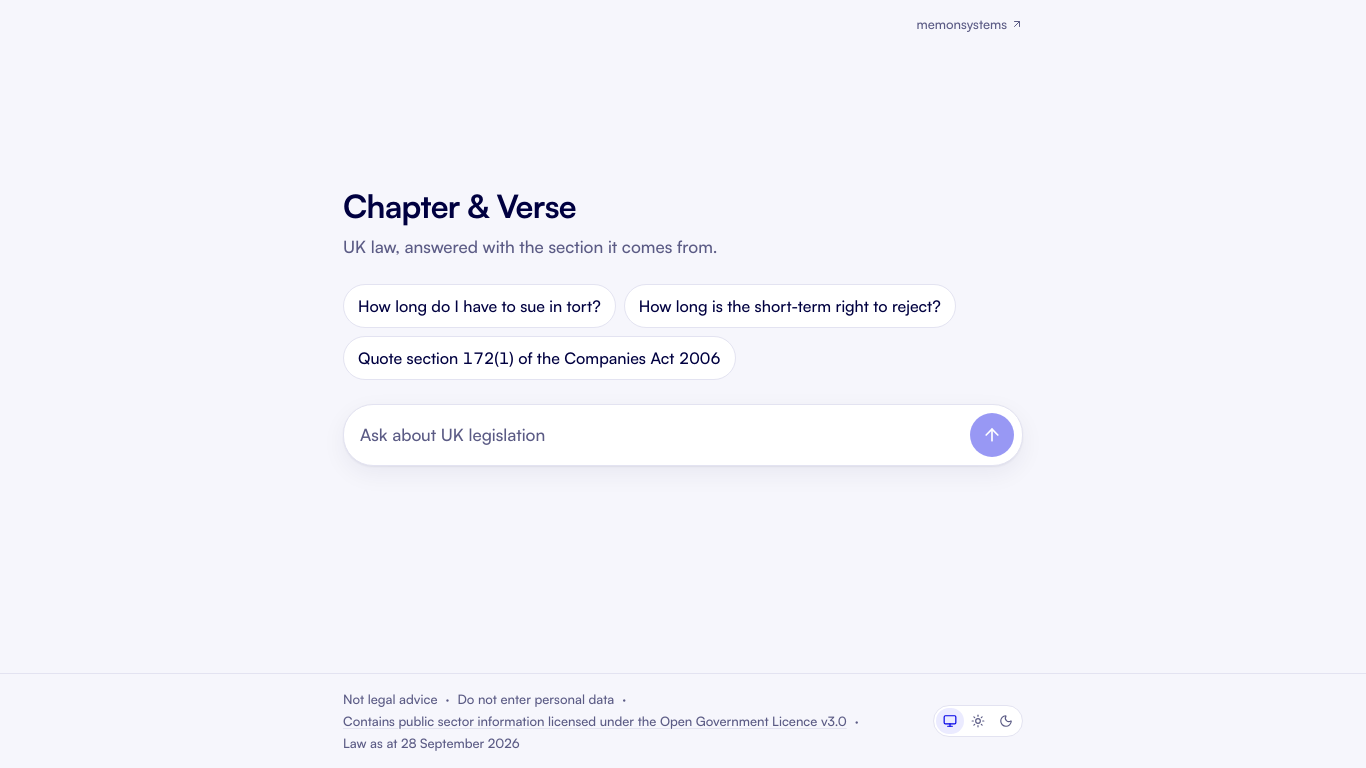
Test: Choice, Change, Retry, and Conversation State (S1-S7) › Retry on an error card replaces the turn in place without duplicating headings and has no action row
Type "How long do I have to sue in tort?" into the text box with placeholder "Ask about UK legislation" at (661, 435), box 360,413 -> 962,457
Then press Enter
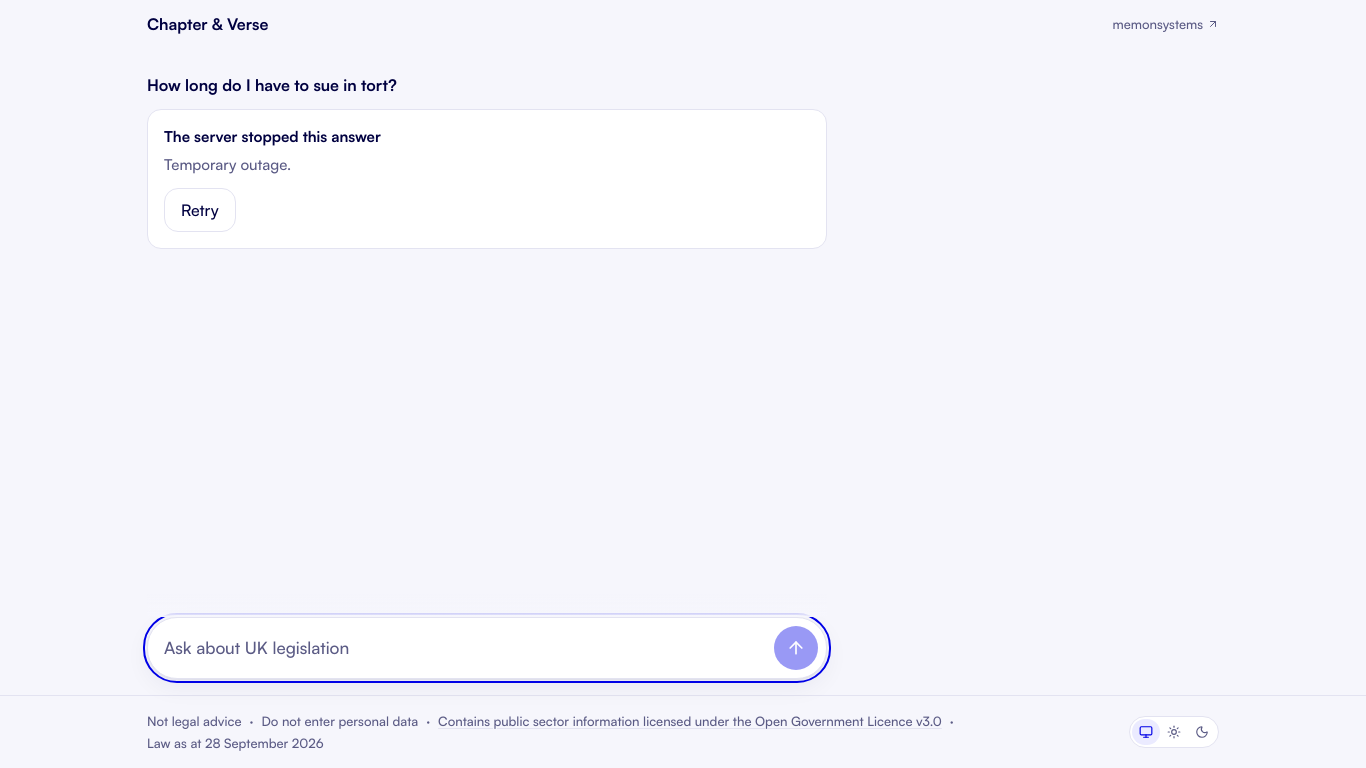
expect the button "Copy" is not shown: met
expect the heading "The server stopped this answer" is shown: met, box 164,127 -> 381,146
Click the button "Retry" at (200, 210), box 164,188 -> 236,232
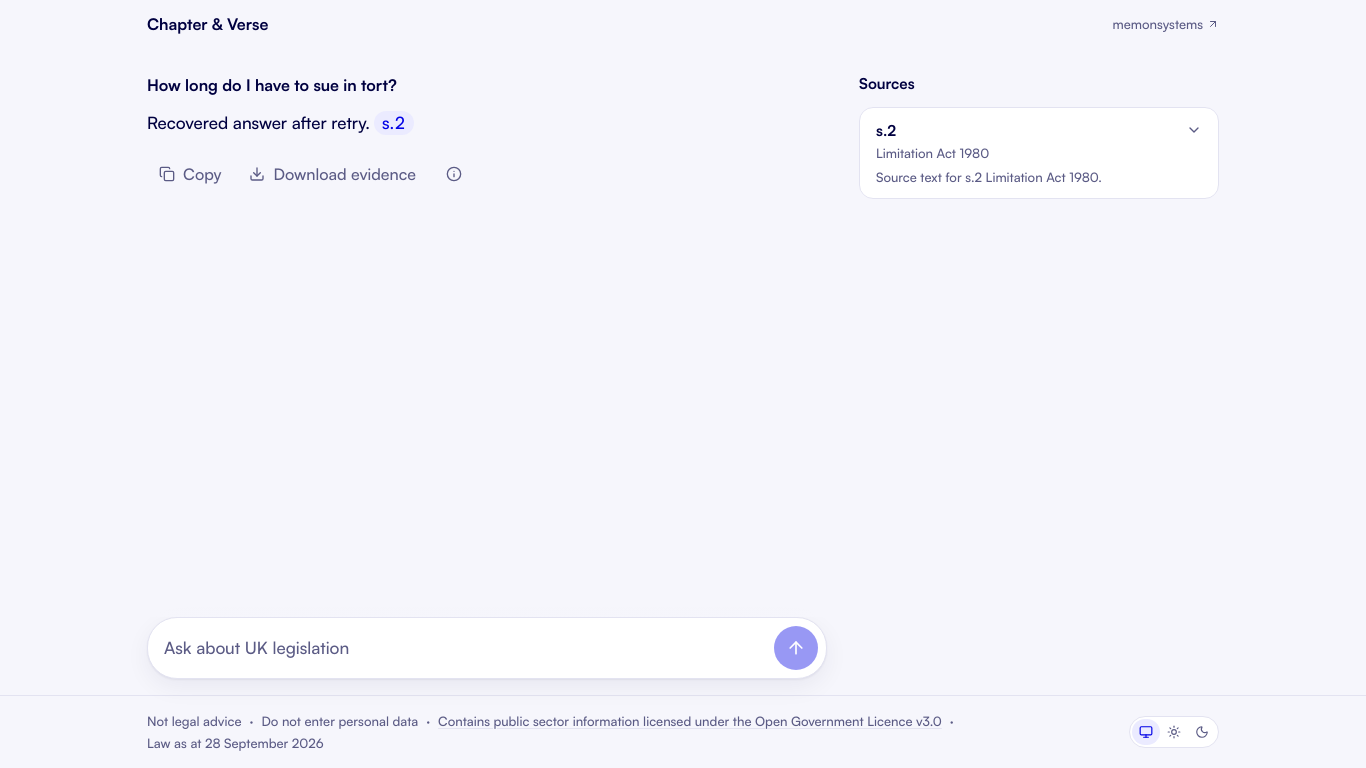
expect the number of headings "How long do I have to sue in tort?" is 1: met, box 146,74 -> 397,95
expect the text "Recovered answer after retry." is shown: met, box 147,112 -> 370,133
expect the heading "The server stopped this answer" is gone: met
